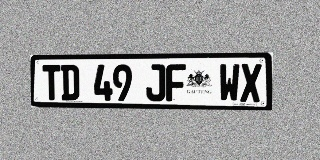4: (94, 64, 113, 101)
9: (113, 64, 132, 101)
D: (61, 65, 79, 100)
F: (166, 64, 186, 101)
J: (146, 64, 165, 101)
T: (42, 65, 61, 100)
W: (219, 64, 240, 102)
X: (240, 64, 262, 102)
